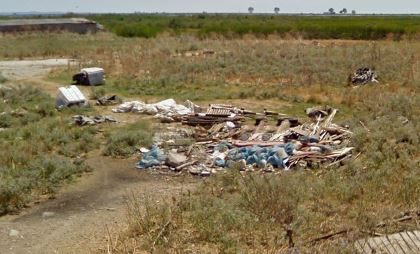trash: (104, 83, 360, 186), (51, 62, 124, 115)
